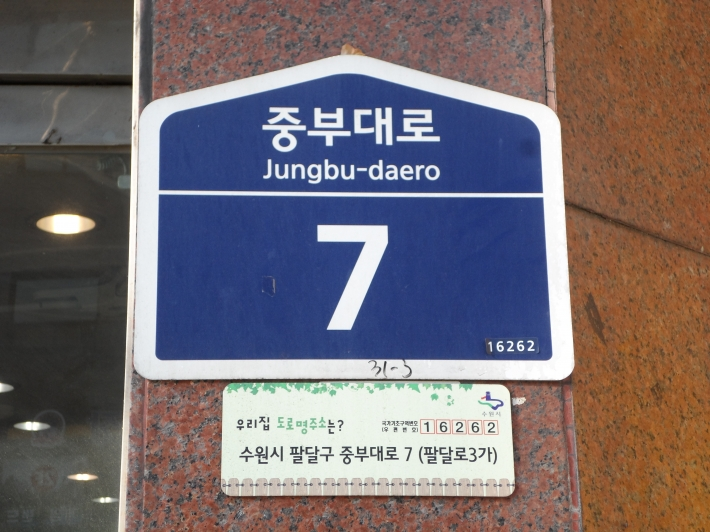building_license_plate1: (131, 54, 578, 381)
